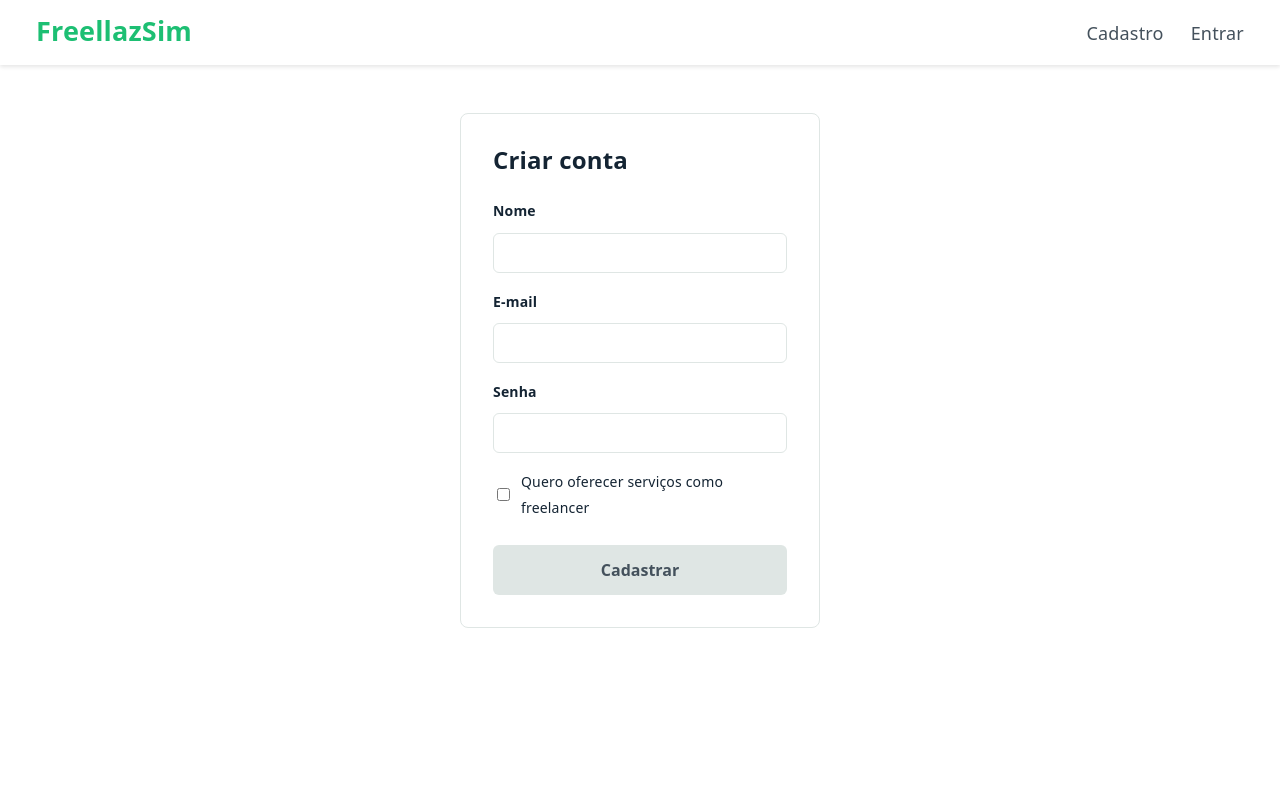
Cadastro › habilita o botão de cadastro quando todos os campos são válidos
Type "Maria Silva" into the field labelled "Nome" at [640, 252], box 493,232 -> 787,272
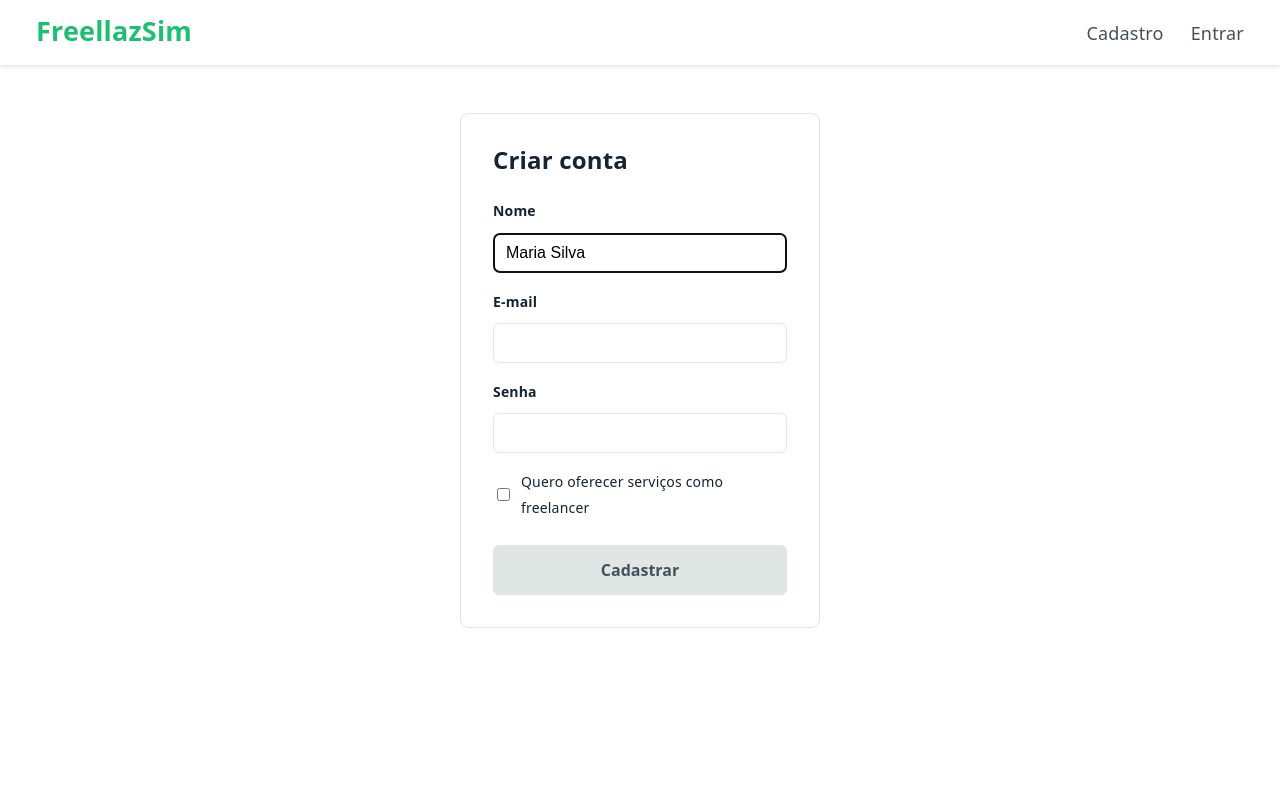
Type "maria@teste.com" into the field labelled "E-mail" at [640, 343], box 493,323 -> 787,363
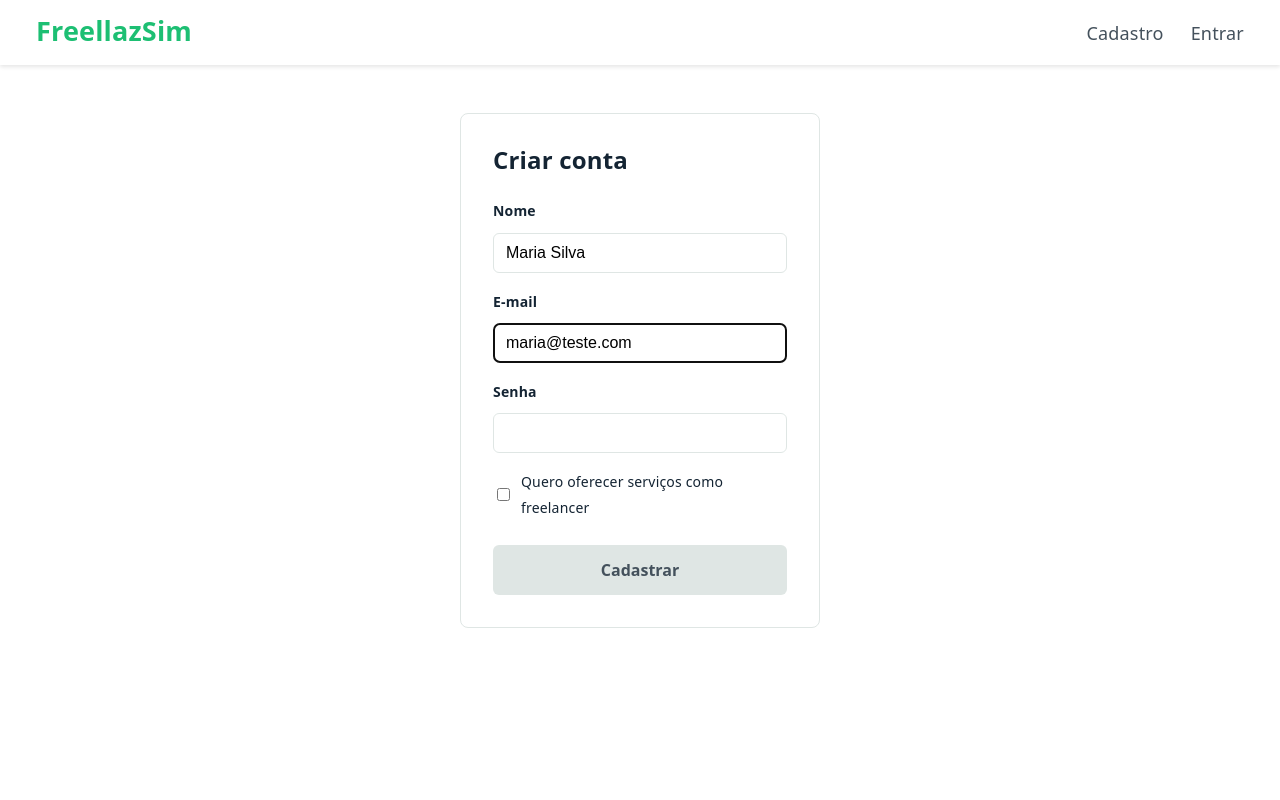
Type "senha123" into the password field labelled "Senha" at [640, 433], box 493,413 -> 787,453
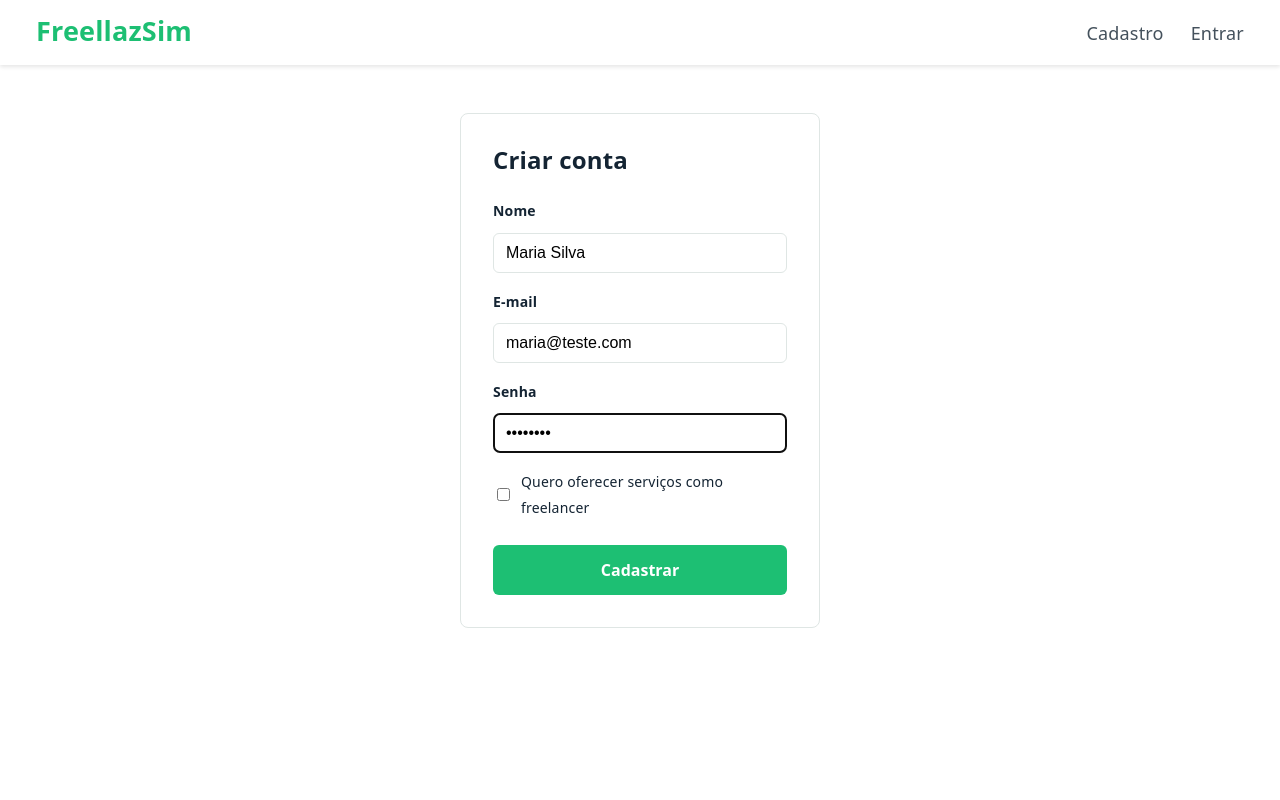
Result: the button "Cadastrar" is enabled at 493,545 -> 787,595
